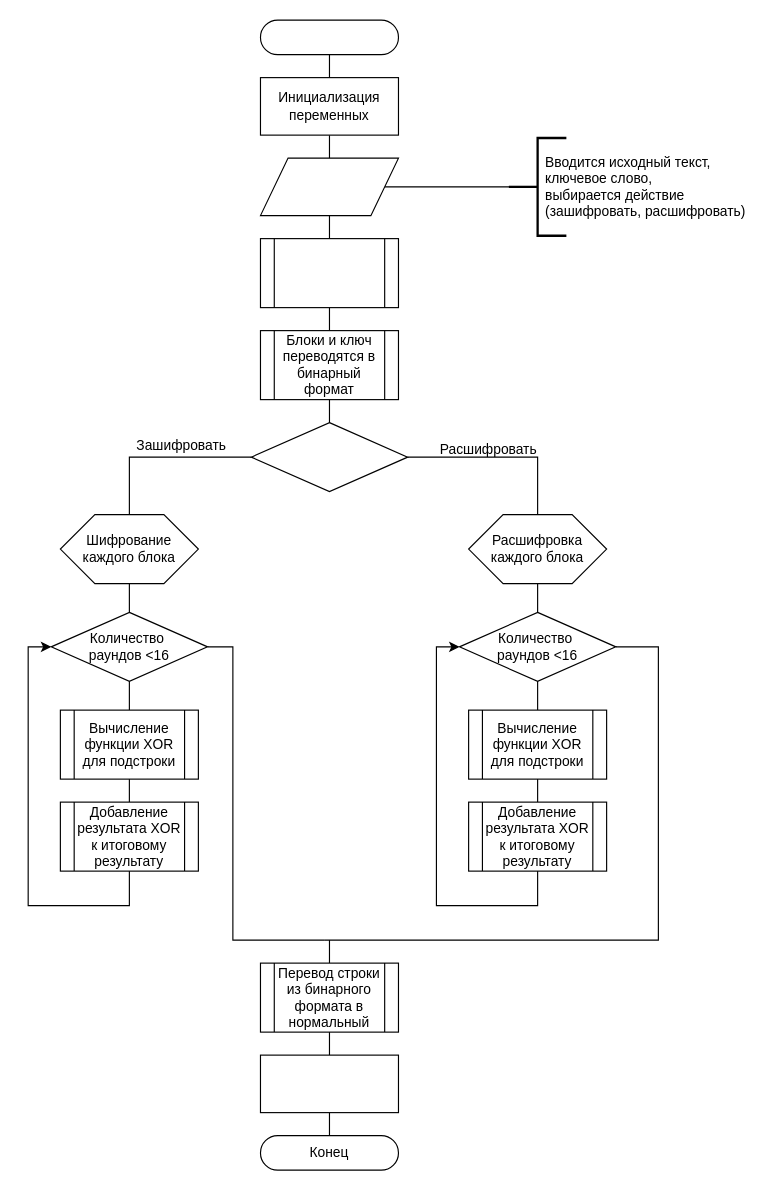
Some shapes in this 782 by 1190 pixel diagram are drawn without their labels. Here are the shapes that lost their labels. From the top down, the centre of each, then its label:
pixel 328 37: Начало
pixel 328 186: Ввод исходных данных
pixel 328 272: Текст разбивается на блоки длинной 128 бит
pixel 329 456: Какое действие выполняется
pixel 328 1083: Вывод результата
